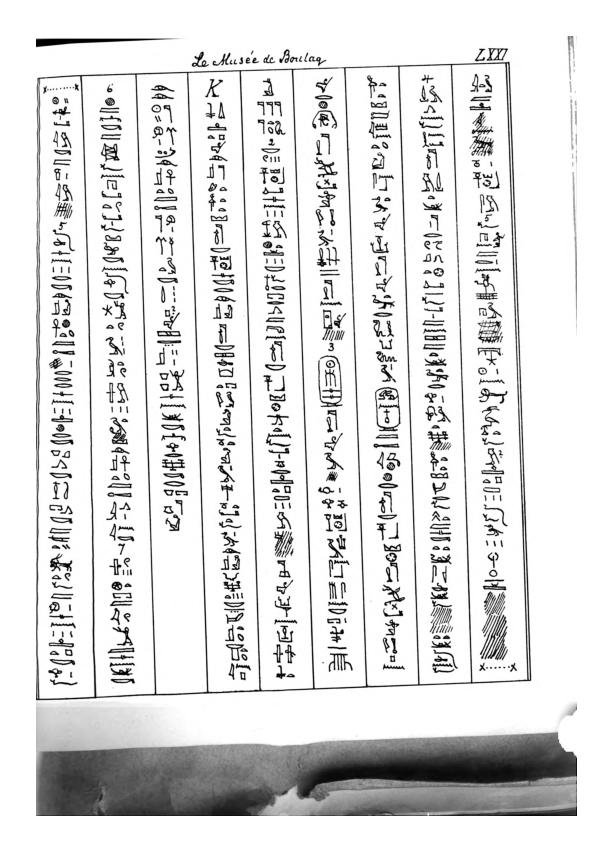circle: (316, 352, 347, 408), (371, 385, 403, 433)
